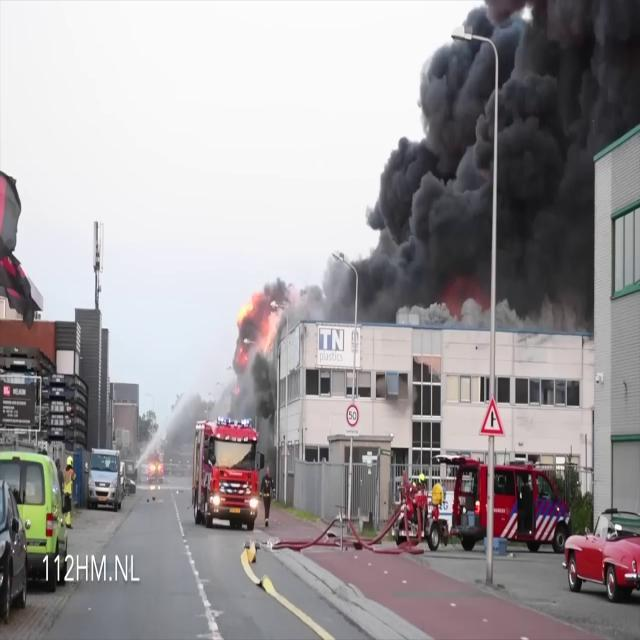Smoke: (277, 1, 639, 330), (227, 263, 296, 397)
